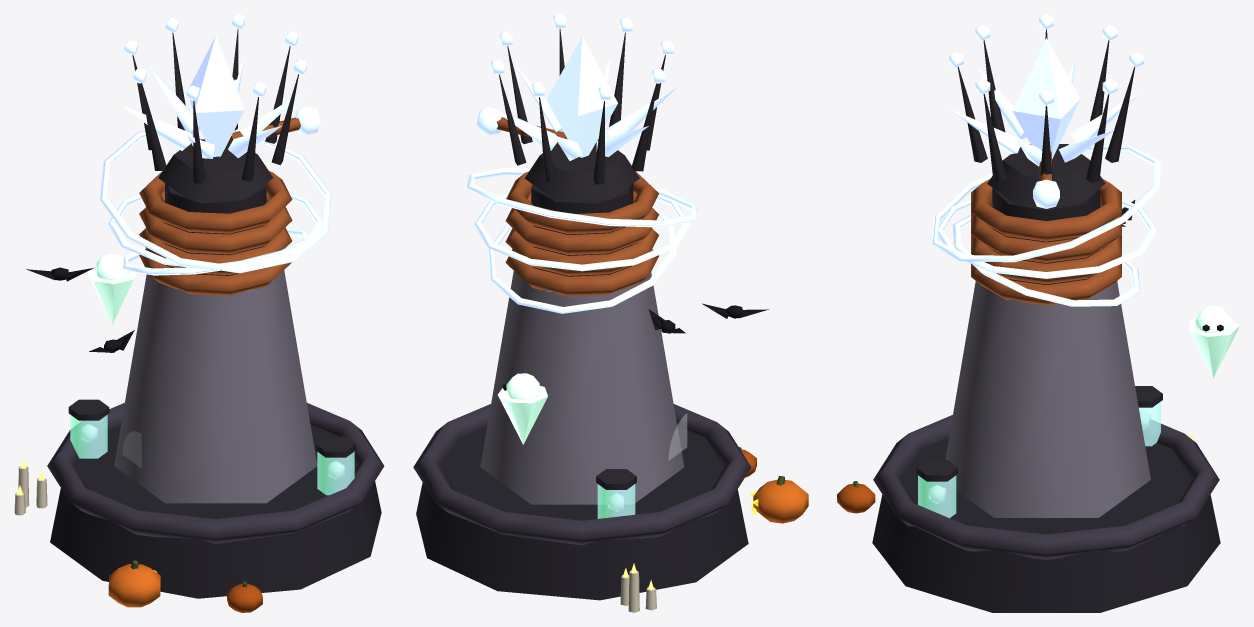
File: tower_chain_tempest.glb
3 renders of one model, left to right at view 1: azimuth 30°, elevation 25°; view 2: azimuth 150°, elevation 25°; view 3: azimuth 270°, elevation 25°, orthographic. The views are drawn at different scales.
Parts seen in each view (by area): view 1: shaft, base, base_rim, cap, coil_3, crystal_core, antenna_ring_2, coil_2, coil_0, coil_core, deco_hw_jack_body, antenna_ring_1 (+20 smaller); view 2: shaft, base, base_rim, crystal_core, cap, coil_2, coil_0, coil_3, antenna_ring_2, coil_1, antenna_ring_1, antenna_ring_0 (+16 smaller); view 3: shaft, base, base_rim, crystal_core, coil_3, cap, antenna_ring_2, coil_2, coil_0, antenna_ring_1, coil_1, coil_core (+17 smaller).
Part boxes in pixels (box(x1,y1,x2,y2)): shaft: box(114, 265, 317, 503); base: box(50, 424, 381, 598); base_rim: box(47, 402, 384, 543); cap: box(158, 139, 272, 198); coil_3: box(139, 171, 292, 233); crystal_core: box(190, 36, 244, 156); antenna_ring_2: box(100, 124, 331, 273); coil_2: box(139, 190, 292, 254); coil_0: box(139, 249, 291, 295); coil_core: box(165, 183, 266, 275); deco_hw_jack_body: box(108, 564, 160, 607); antenna_ring_1: box(107, 192, 322, 270); shaft: box(480, 265, 684, 504); base: box(416, 426, 748, 600); base_rim: box(413, 404, 751, 545); crystal_core: box(546, 36, 617, 157); cap: box(524, 139, 639, 199); coil_2: box(505, 191, 659, 254); coil_0: box(505, 249, 658, 296); coil_3: box(506, 171, 658, 234); antenna_ring_2: box(467, 167, 697, 227); coil_1: box(505, 228, 658, 275); antenna_ring_1: box(473, 193, 690, 271); antenna_ring_0: box(487, 205, 676, 313); shaft: box(945, 281, 1150, 517); base: box(872, 437, 1220, 612); base_rim: box(873, 415, 1219, 559); crystal_core: box(1012, 38, 1080, 158); coil_3: box(971, 178, 1121, 241); cap: box(987, 144, 1105, 205); antenna_ring_2: box(931, 145, 1161, 262); coil_2: box(971, 213, 1121, 262); coil_0: box(971, 256, 1121, 305); antenna_ring_1: box(937, 199, 1157, 278); coil_1: box(971, 235, 1121, 284); coil_core: box(992, 188, 1100, 284).
Size of the model in its own units: 0.4215 by 0.64 by 0.4624.
